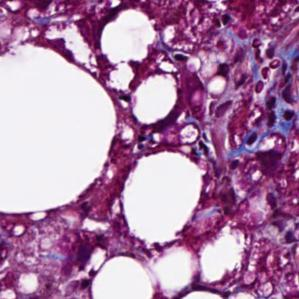inflammation: (243, 84, 299, 131), (262, 190, 299, 248)
